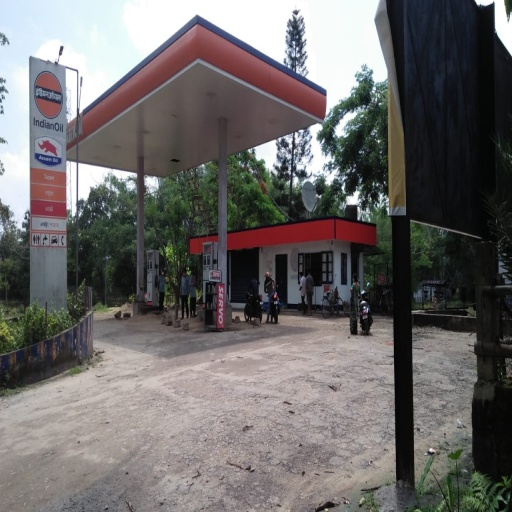roof: (60, 17, 320, 179)
